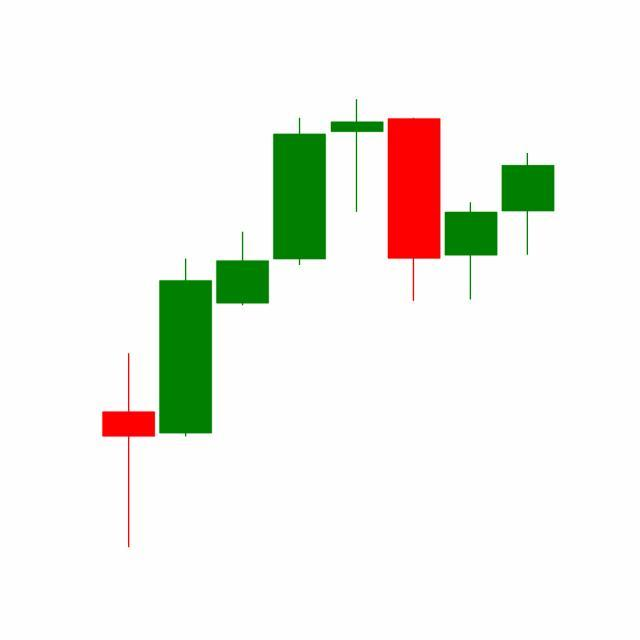Hikkake Pattern: (270, 100, 555, 306)
